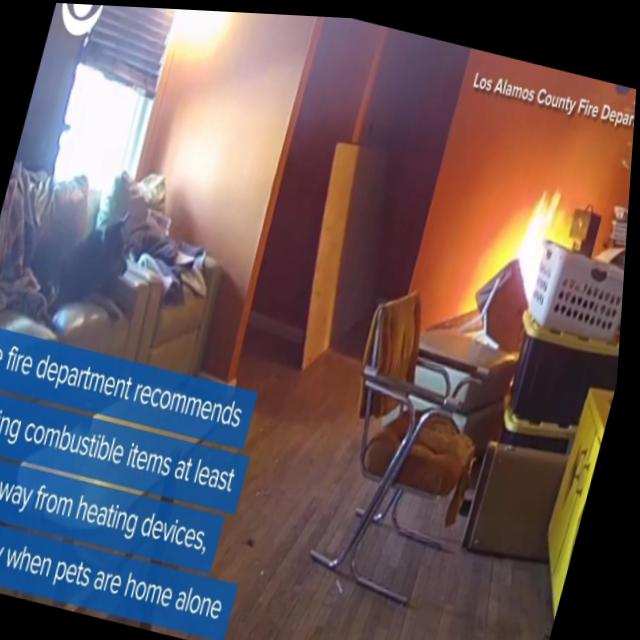fire: (496, 160, 576, 308)
